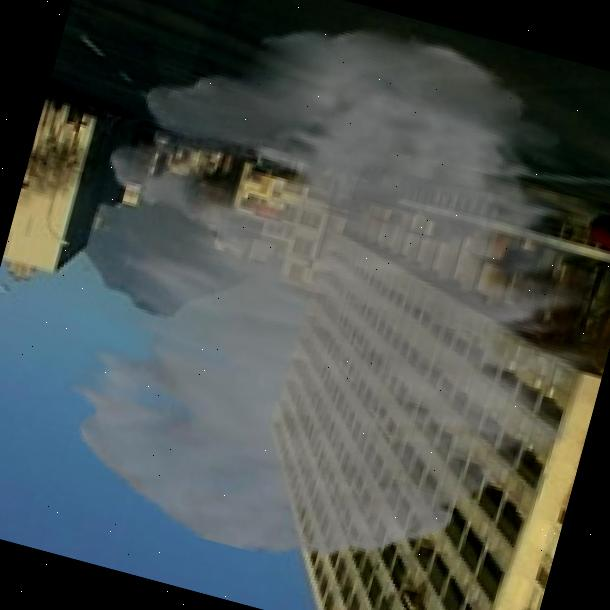smoke: (21, 0, 610, 610)
